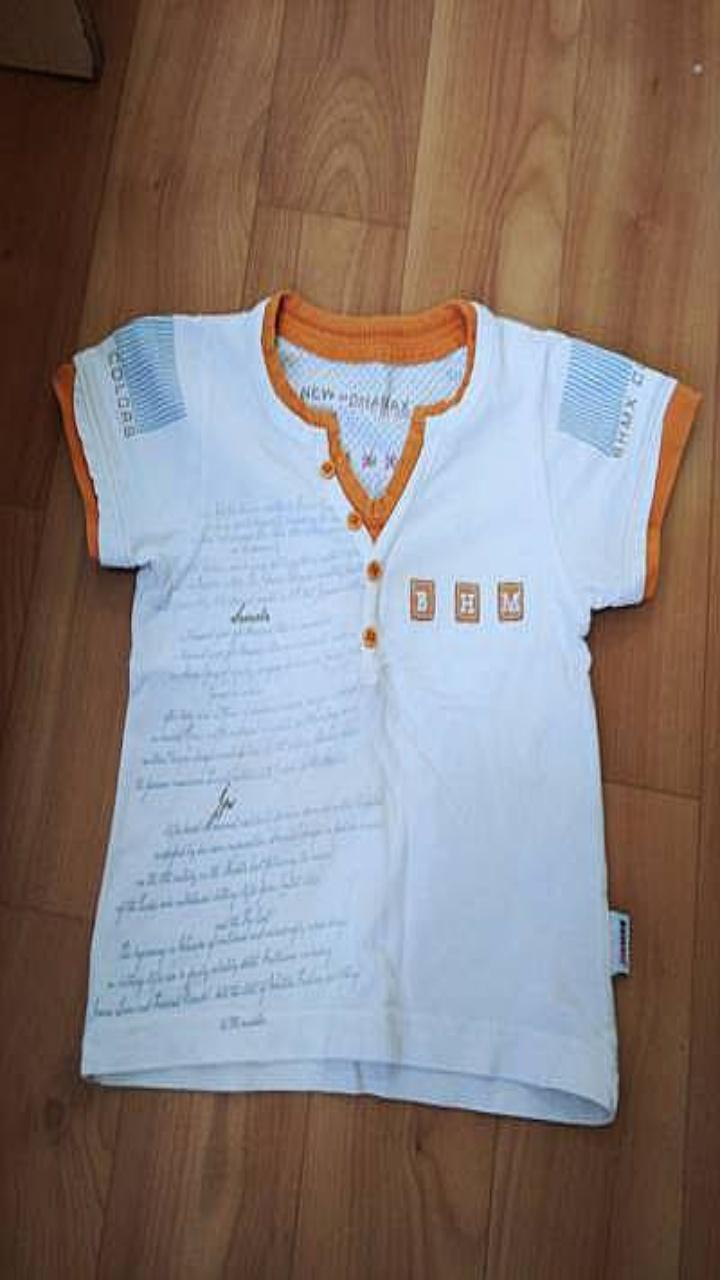T-Shirt: (53, 289, 700, 1124)
